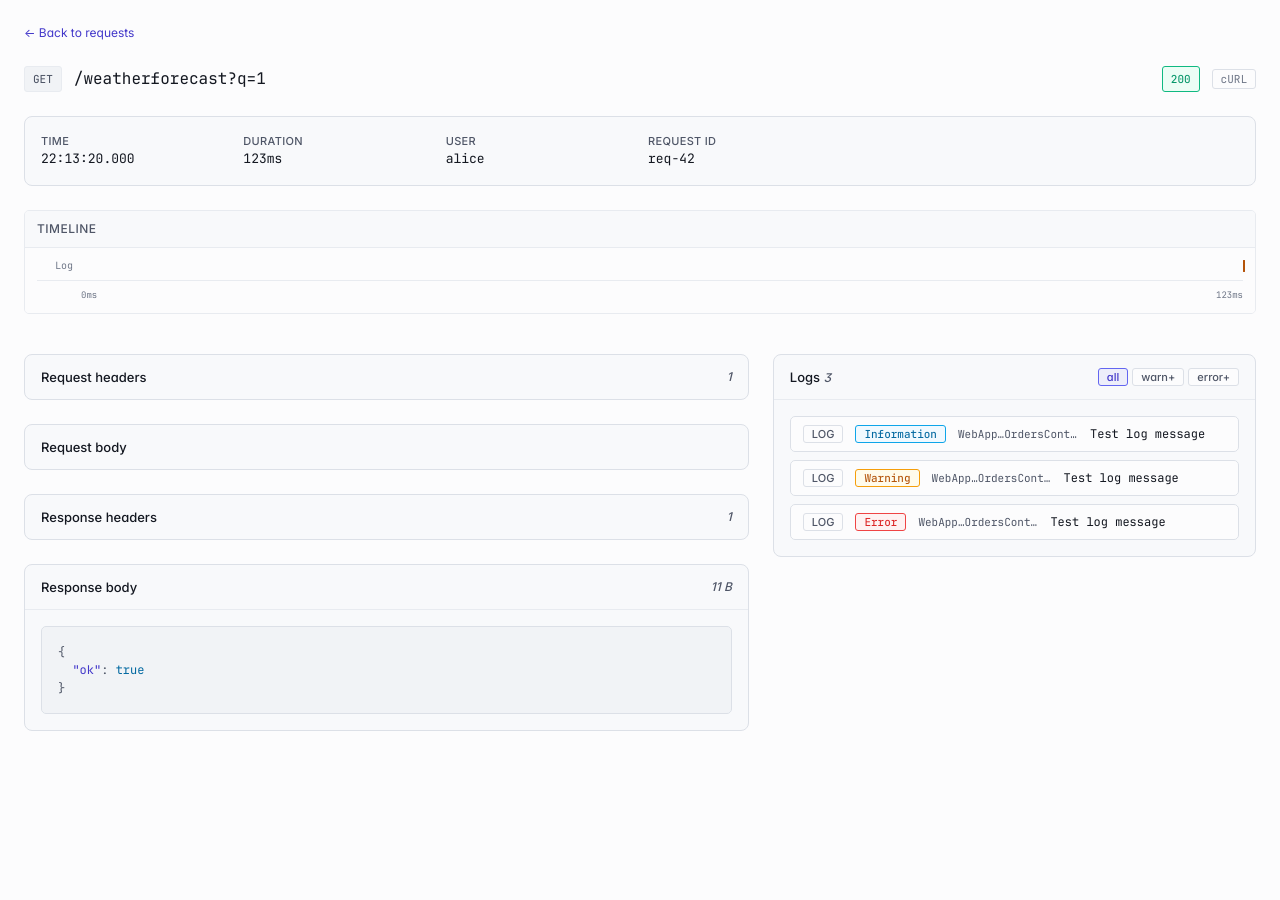
Test: RequestDetail — Log section › Warn+ filter hides Information entries
Check: the number of list items with test id "log-row" is 3, box [790,416,1239,452]; [790,460,1239,496]; [790,504,1239,540]
Click the button with test id "log-filter-warn+" at (1158, 377), box [1132,368,1184,386]
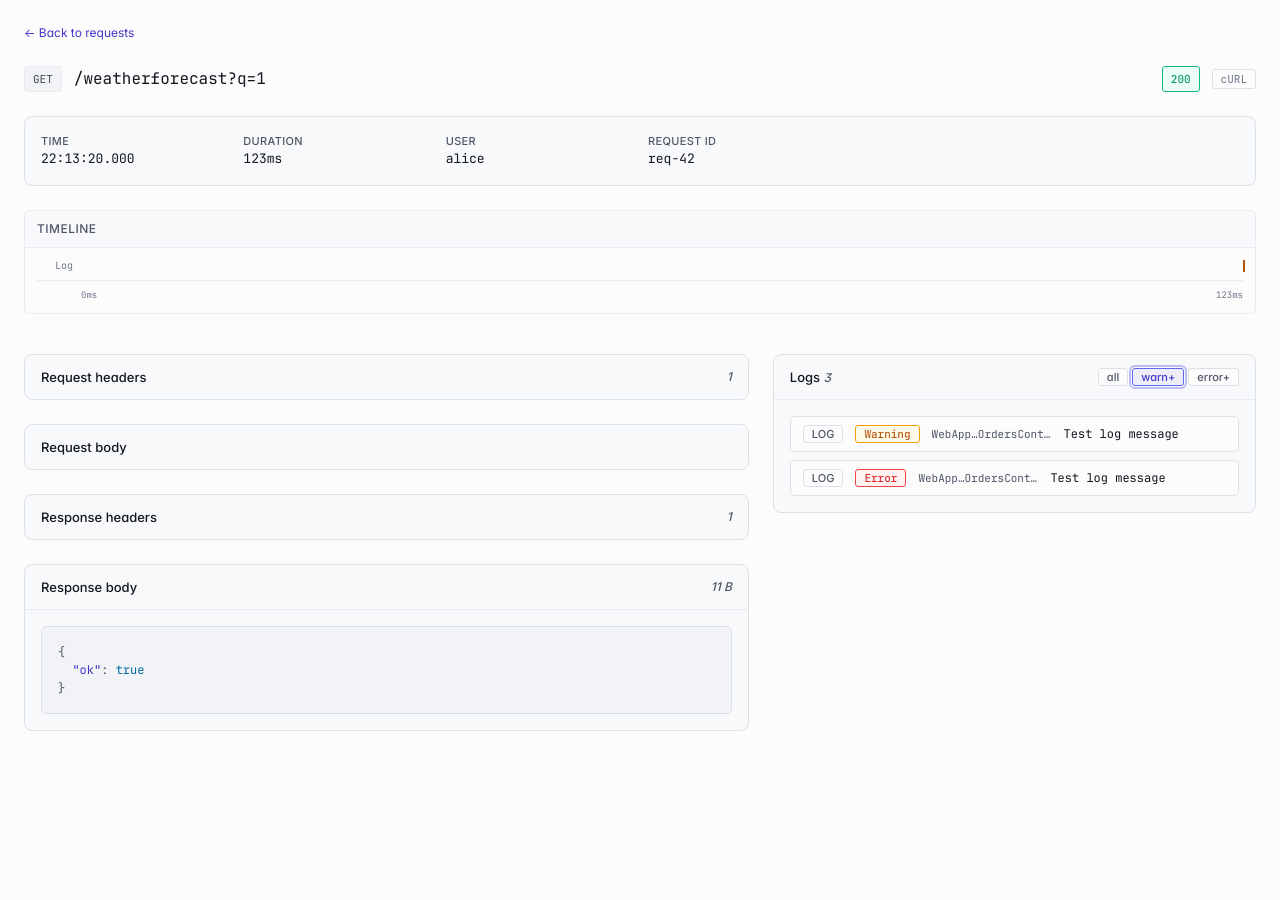
Check: the number of list items with test id "log-row" is 2, box [790,416,1239,452]; [790,460,1239,496]
